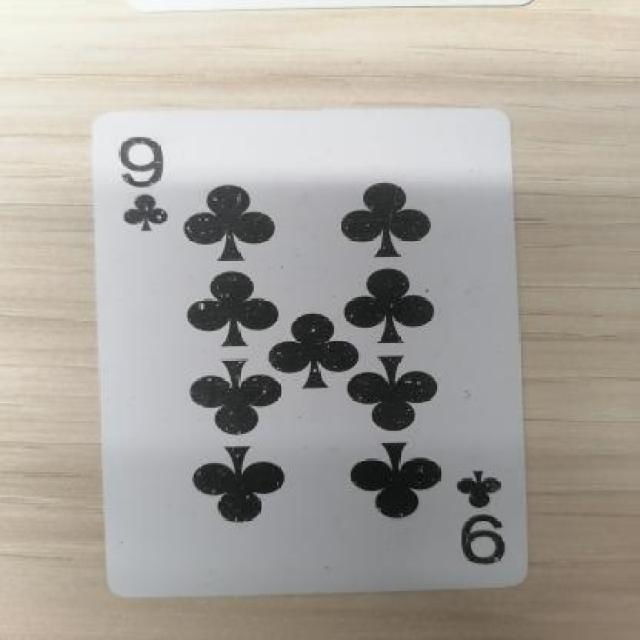9C: (96, 126, 182, 251), (438, 450, 519, 575)
